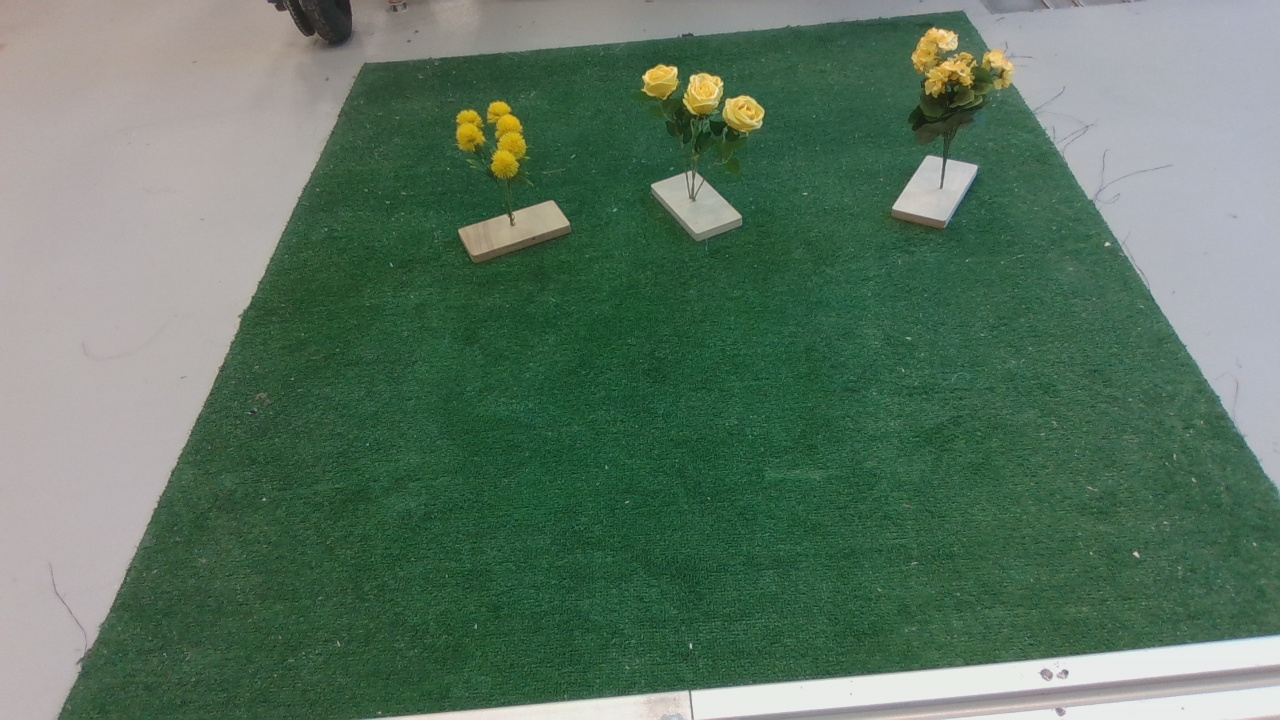dandelion: (454, 103, 548, 203)
geranium: (905, 29, 1024, 164)
rose: (637, 59, 777, 183)
